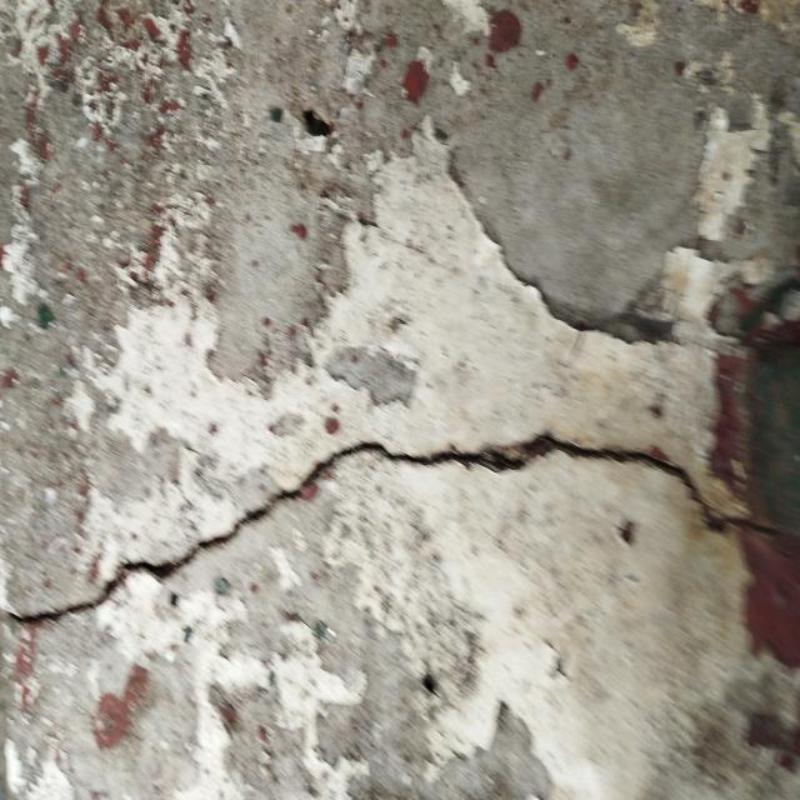pothole: (5, 436, 800, 625)
